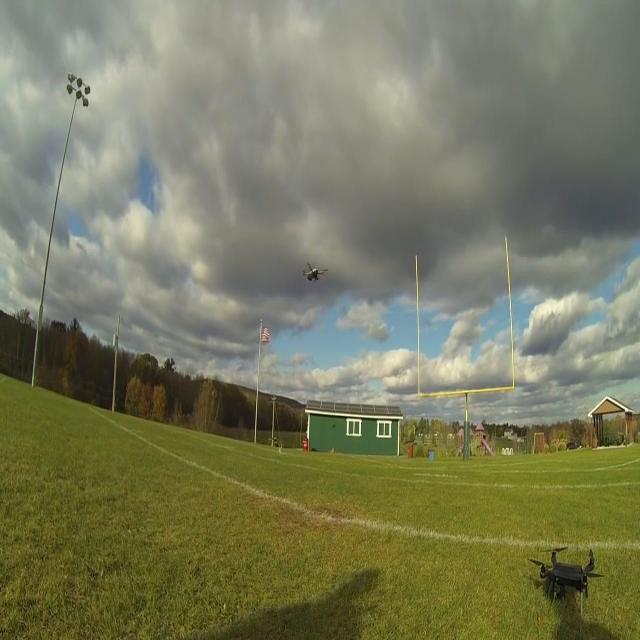UAV: (530, 546, 604, 616), (302, 263, 328, 283)
